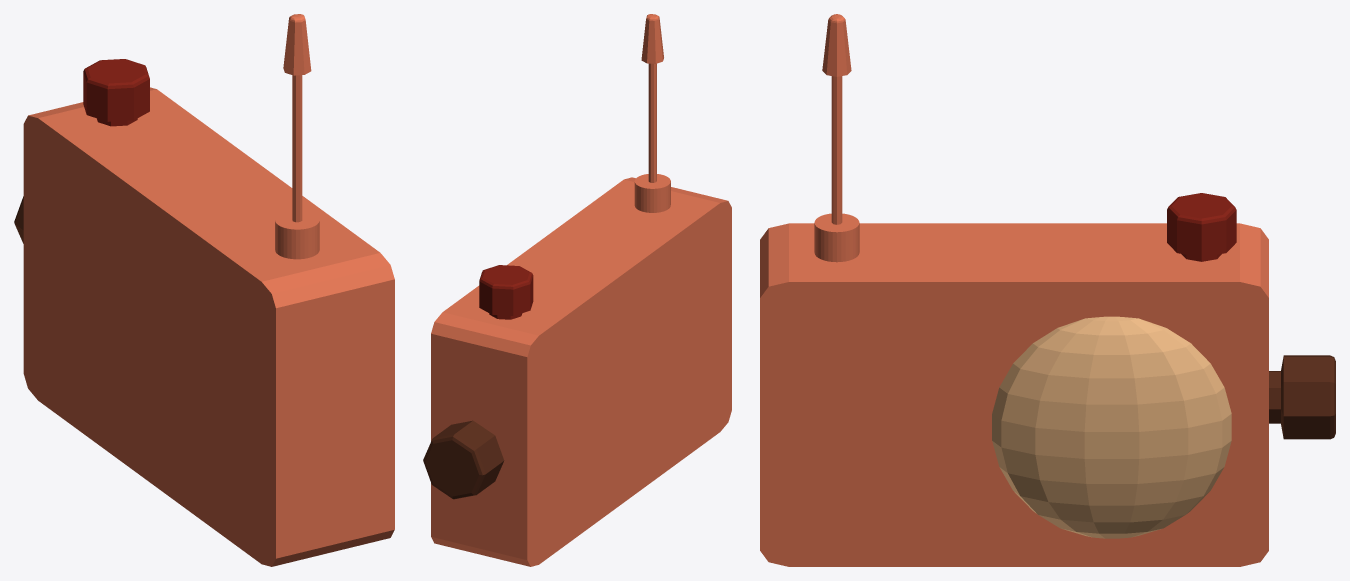
File: radio_texture.fbx
3 views of the same model, side by side, from view 1: azimuth 30°, elevation 25°; view 2: azimuth 150°, elevation 25°; view 3: azimuth 270°, elevation 25° (orthographic). The views are drawn at different scales.
Parts seen in each view (by area): view 1: Cube, Cylinder; view 2: Cube, Cylinder.001, Cylinder; view 3: Cube, Sphere, Cylinder.001, Cylinder.
Boxes of the visible parts, bbox=[...] form: Cube: bbox=[23, 14, 394, 566]; Cylinder: bbox=[83, 59, 149, 126]; Cube: bbox=[431, 14, 731, 566]; Cylinder.001: bbox=[423, 420, 504, 499]; Cylinder: bbox=[479, 265, 533, 319]; Cube: bbox=[760, 14, 1268, 566]; Sphere: bbox=[992, 316, 1231, 538]; Cylinder.001: bbox=[1269, 355, 1335, 439]; Cylinder: bbox=[1167, 193, 1236, 261].
Bounding box in the file's own units: 95.91 × 303 × 304.
